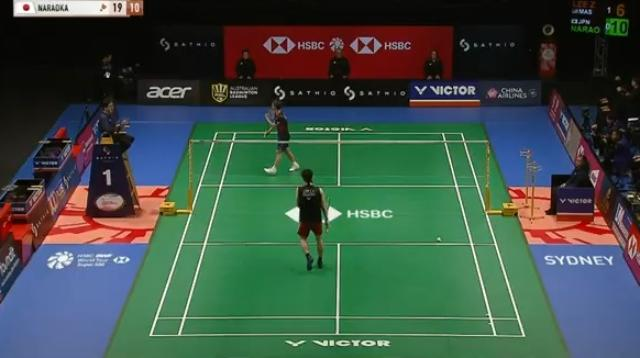Shuttlecock: (434, 233, 448, 246)
